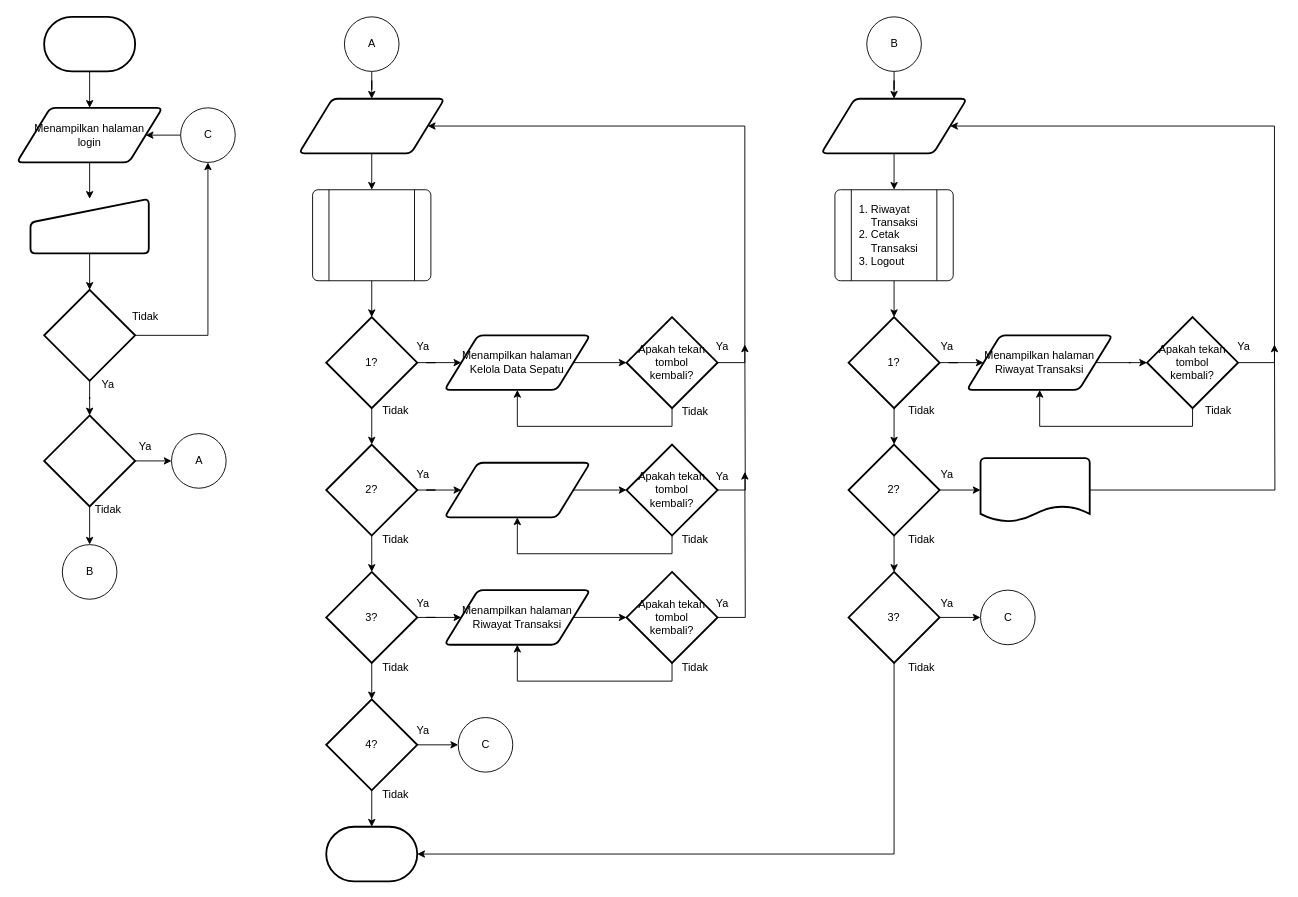
This 1298x897 diagram has some shape labels left out. The shapes that lost their labels are listed below. From the top down, each one's box as (x1, y1, x2, y2) in pixels, then its label:
(43, 15, 136, 72): Mulai
(298, 97, 445, 154): Menampilkan halaman dasbor admin
(820, 97, 967, 154): Menampilkan halaman dasbor kasir
(29, 197, 149, 254): Masukkan Username & Password
(312, 189, 431, 281): Kelola Data Sepatu Kelola Data Pengguna Riwayat Transaksi Logout
(43, 288, 136, 381): Apakah akun valid?
(43, 414, 136, 507): Apakah rolenya adalah admin ?
(443, 461, 591, 518): Menampilkan halaman Kelola Data Pengguna
(979, 457, 1090, 522): Struk Pembelian
(325, 825, 418, 882): Selesai
